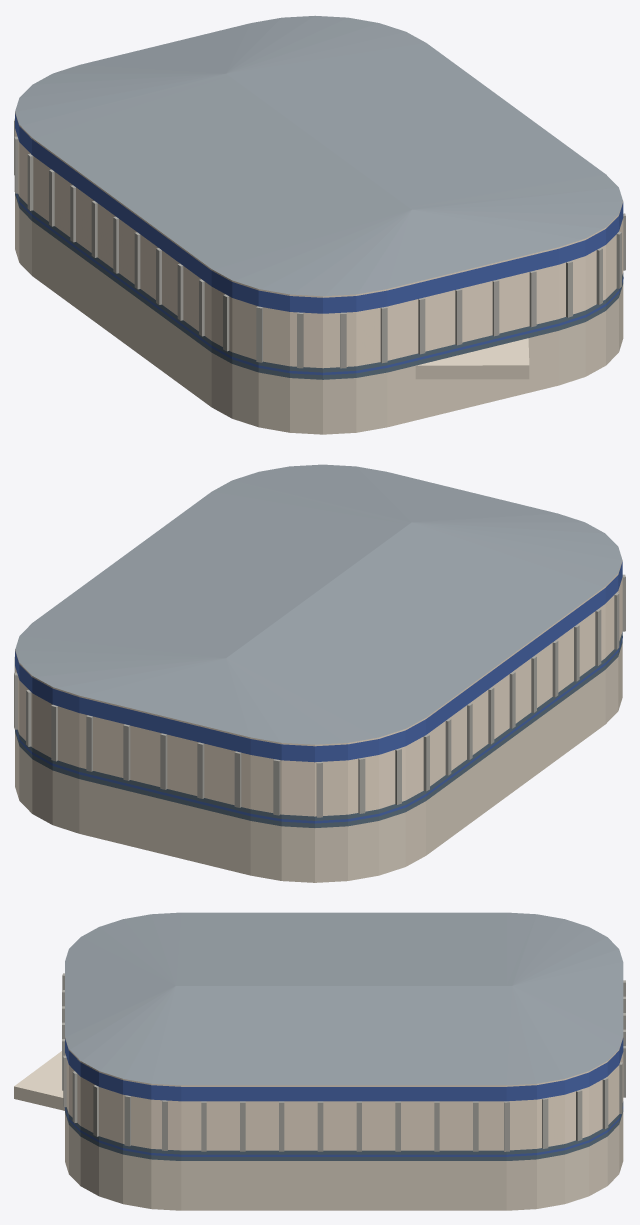
File: cin-heritage-bank-center.glb
The picture shows the model from 3 angles, top to bottom: view 1: azimuth 30°, elevation 25°; view 2: azimuth 150°, elevation 25°; view 3: azimuth 270°, elevation 25°; orthographic projection. The views are drawn at different scales.
Visible parts, largest first — view 1: Heritage Bank Center; view 2: Heritage Bank Center; view 3: Heritage Bank Center.
Part boxes in pixels (x1,y1,x2,y2): Heritage Bank Center: [14, 15, 625, 434]; Heritage Bank Center: [14, 464, 625, 882]; Heritage Bank Center: [14, 912, 625, 1210].
Size of the model in its own units: 97.03 by 35.2 by 142.
